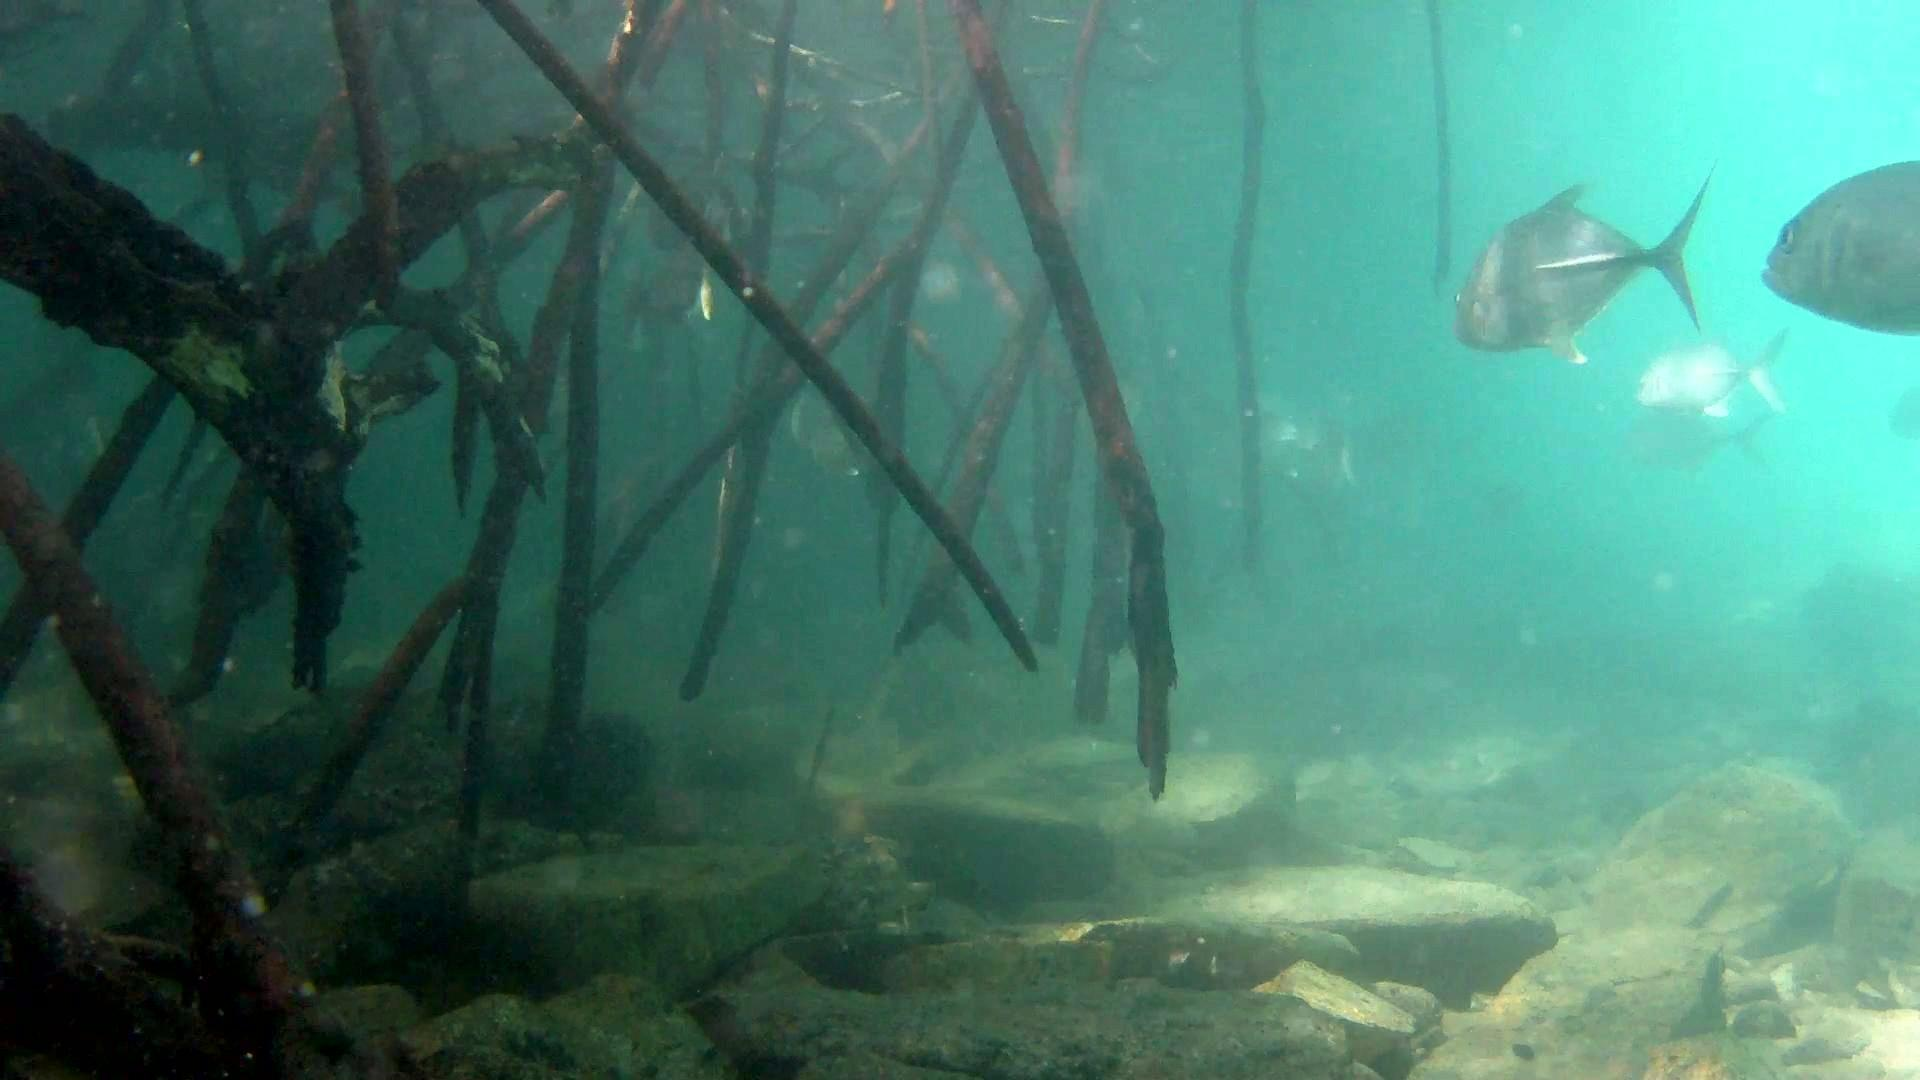caranx: (1443, 167, 1720, 372), (1751, 153, 1920, 345)
